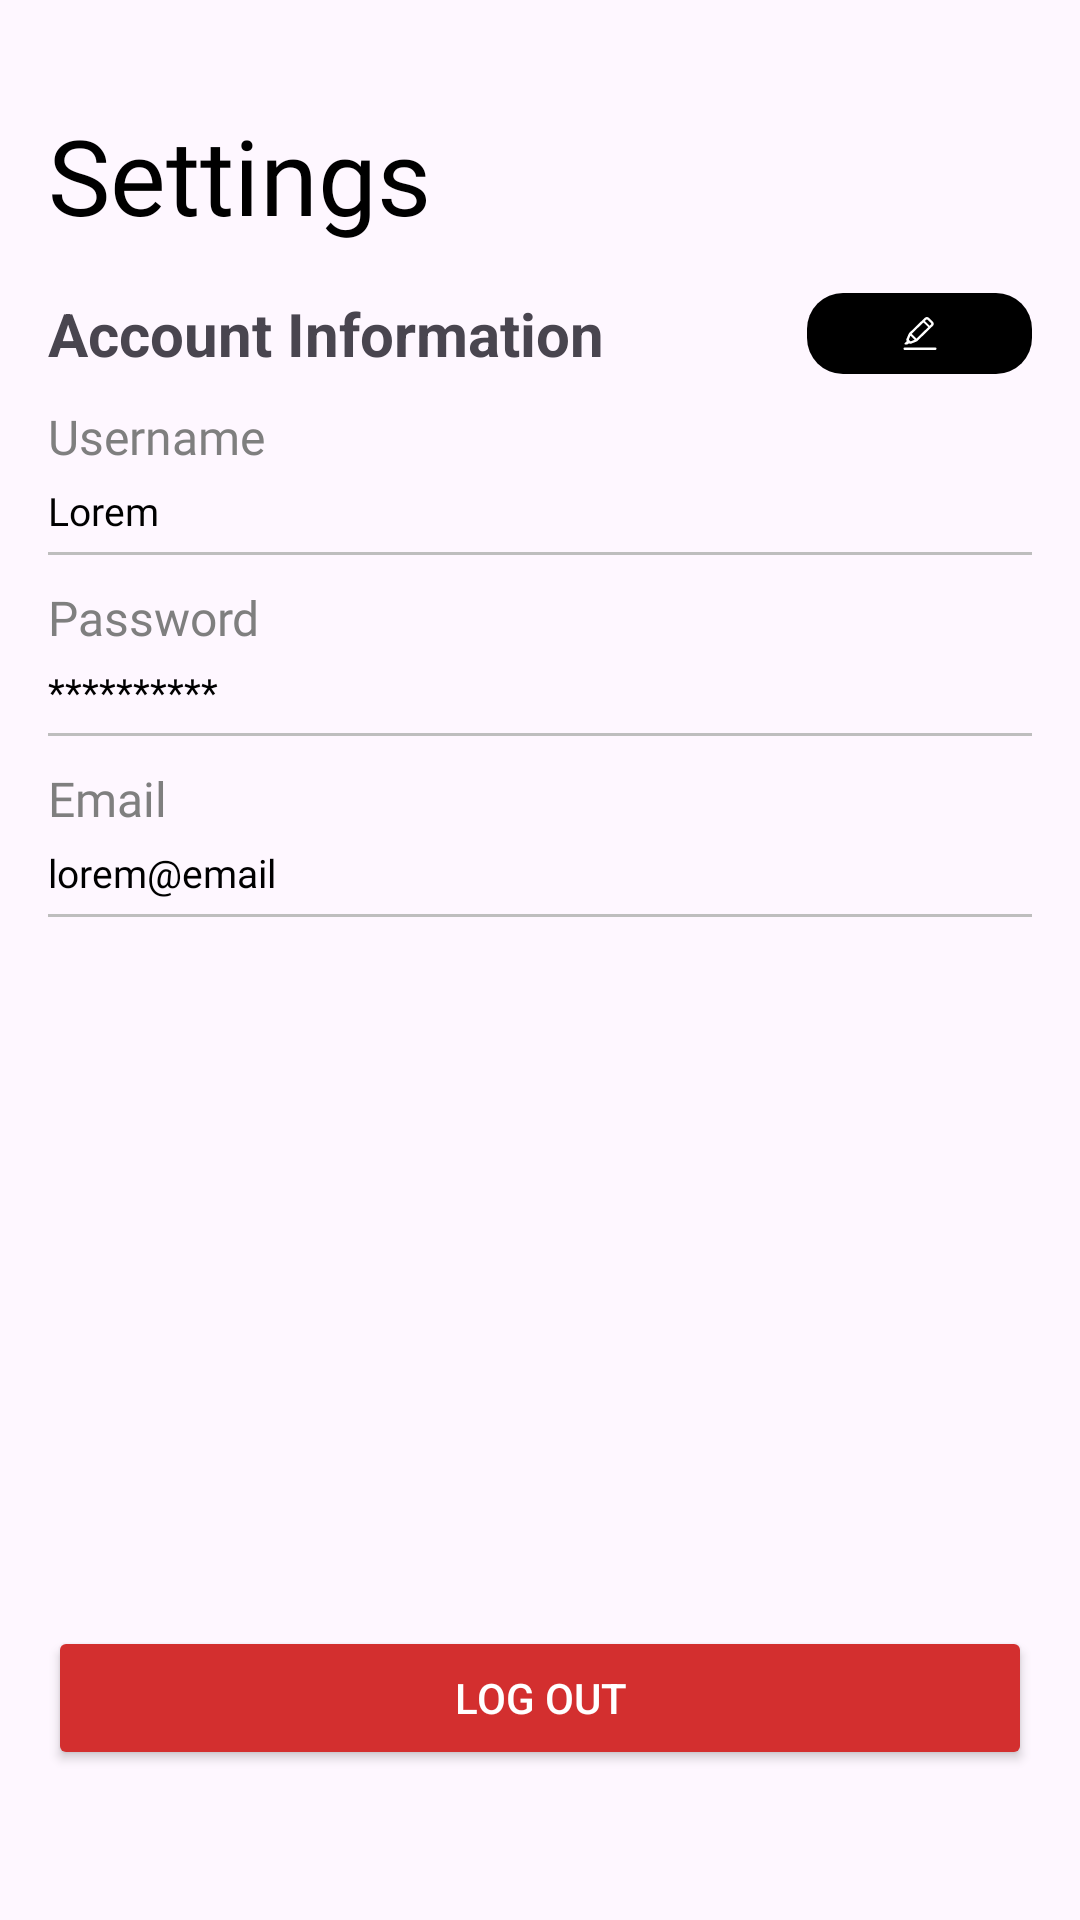

Where to tap for icons on this 1080×1920 app screen, as point (x, y):
edit: point (919, 333)
